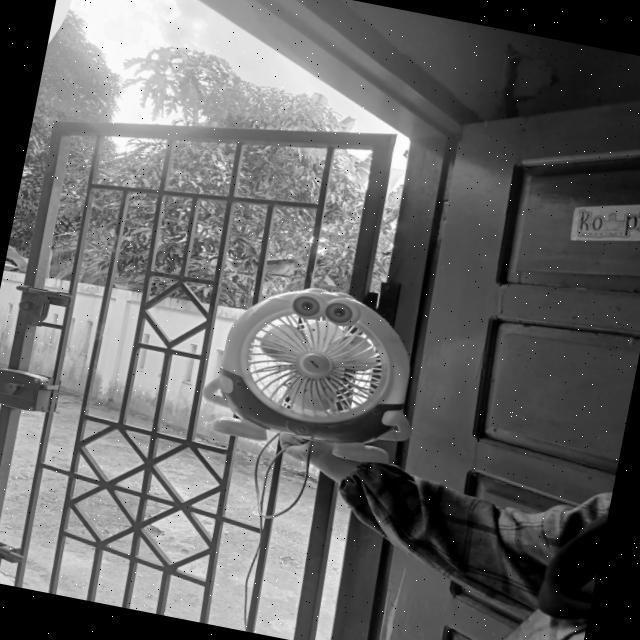fan: (195, 266, 442, 466)
